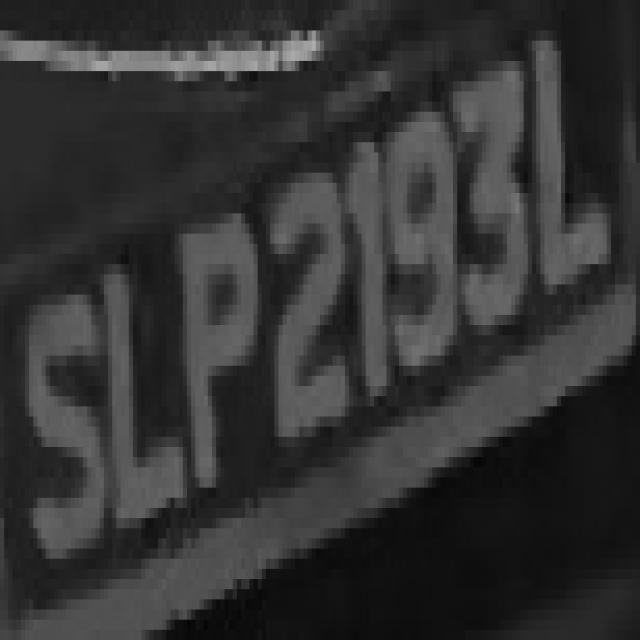1: (341, 91, 386, 437)
2: (249, 172, 366, 488)
3: (449, 31, 532, 396)
9: (370, 71, 461, 386)
L: (87, 213, 183, 559), (528, 30, 623, 305)
P: (175, 193, 266, 508)
S: (12, 254, 100, 559)
